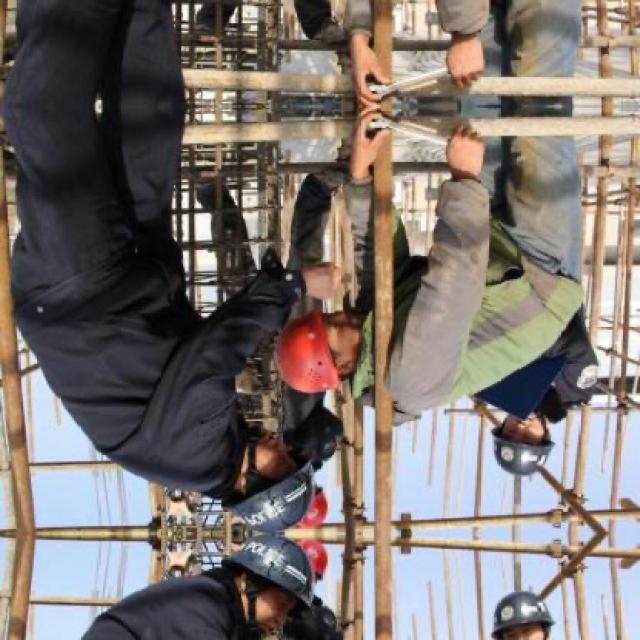con casco: (256, 307, 390, 410), (220, 428, 316, 537), (478, 406, 572, 485)
